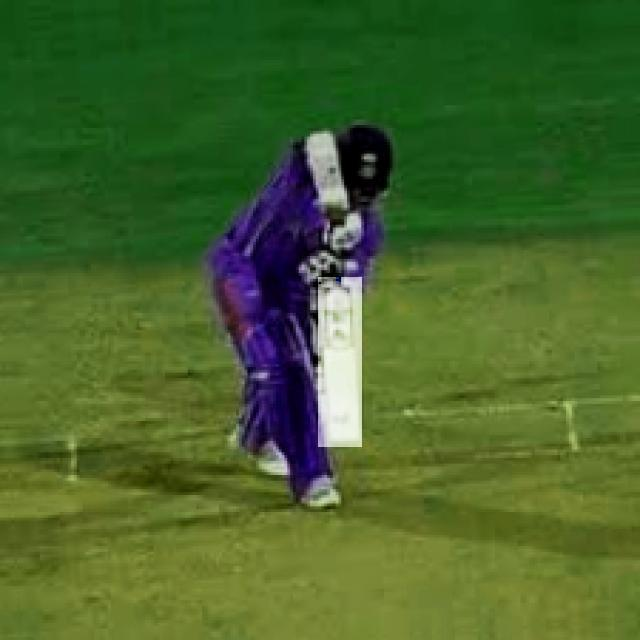bat: (318, 275, 366, 445)
toe: (320, 438, 364, 450)
